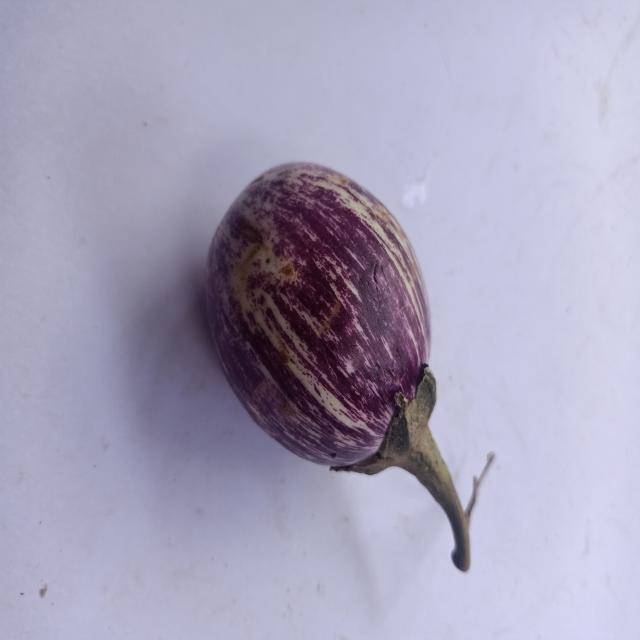Eggplant: (191, 144, 496, 602)
